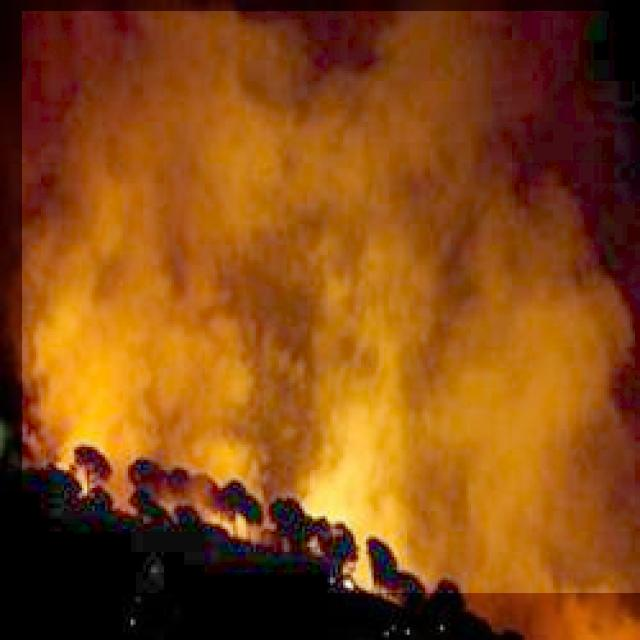Smoke: (22, 11, 640, 594)
